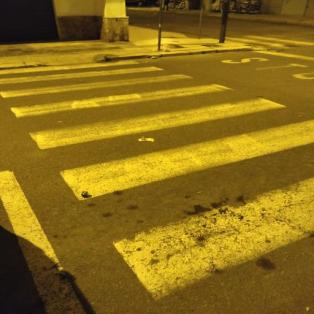Paso de Cebra: (8, 96, 314, 206)
